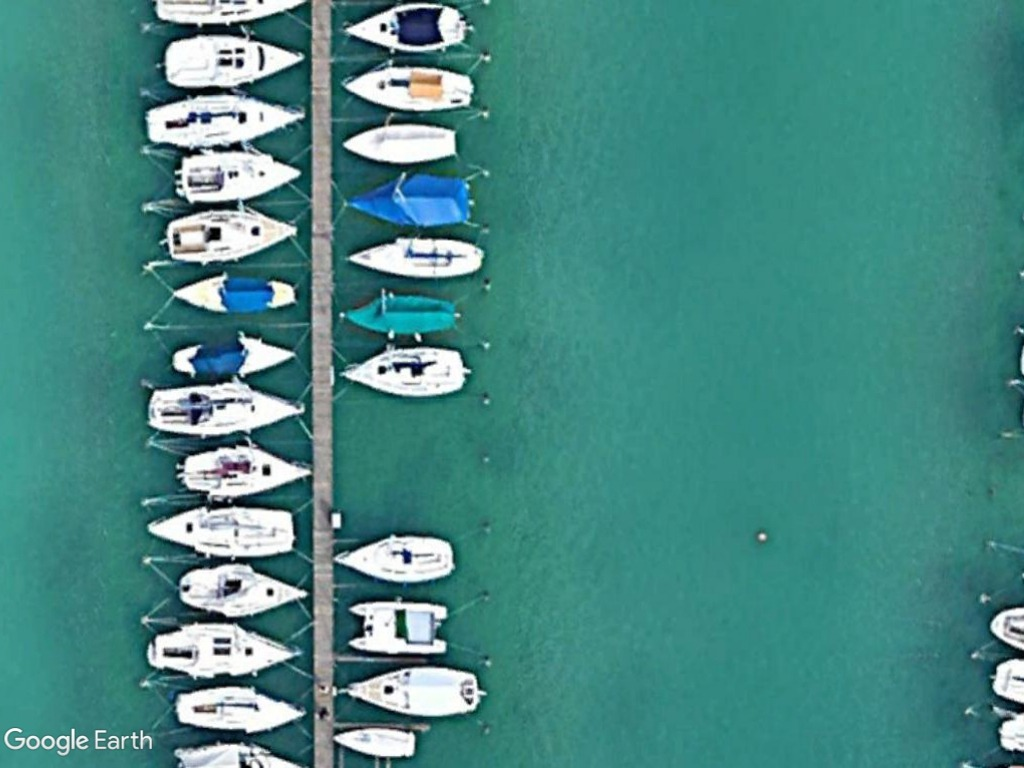boat: (143, 375, 309, 444), (140, 616, 299, 684), (140, 498, 298, 564), (136, 91, 308, 148), (171, 440, 312, 504), (159, 206, 300, 268), (160, 32, 307, 90), (339, 661, 483, 720), (336, 344, 470, 403), (341, 173, 476, 230), (171, 151, 304, 208), (340, 232, 488, 283), (340, 0, 472, 56), (336, 62, 477, 113), (176, 563, 310, 616), (168, 686, 307, 737), (330, 532, 458, 587), (336, 287, 464, 341), (336, 116, 463, 168), (168, 271, 301, 320), (165, 334, 301, 381), (327, 722, 420, 762)
